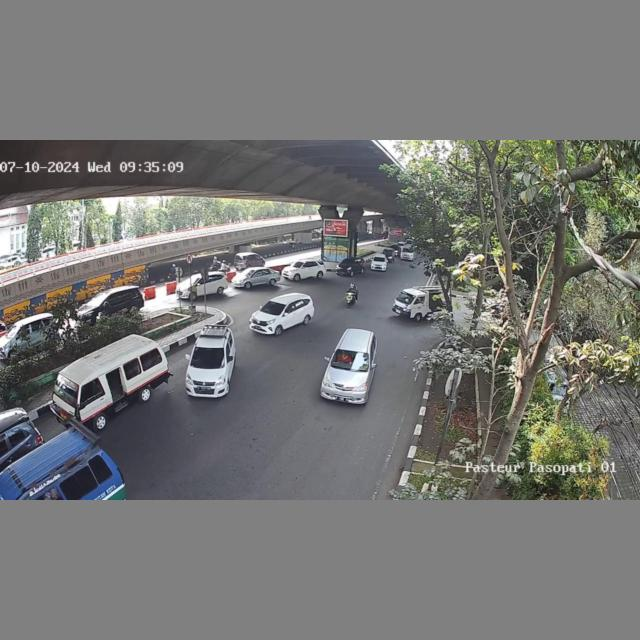windshield: (52, 373, 80, 405), (330, 349, 369, 369), (190, 347, 226, 367), (260, 301, 284, 316), (397, 290, 415, 305)
